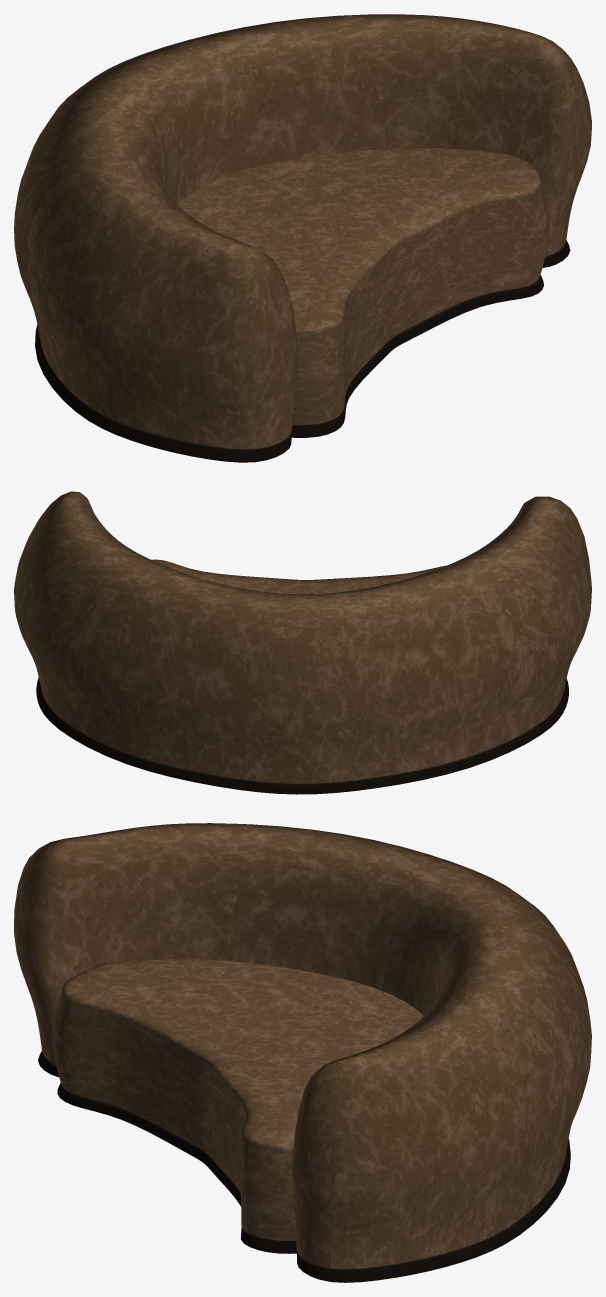
The model's file is SofaPrincipal.obj.
The picture shows the model from 3 angles, top to bottom: view 1: azimuth 30°, elevation 25°; view 2: azimuth 150°, elevation 25°; view 3: azimuth 270°, elevation 25°; orthographic projection. The views are drawn at different scales.
Visible parts, largest first — view 1: Main.004, Main.003, Main.001, Main.002; view 2: Main.004, Main.001, Main.003; view 3: Main.004, Main.003, Main.001, Main.002.
Part boxes in pixels (x1,y1,x2,y2): Main.004: [14, 14, 591, 449]; Main.003: [177, 148, 549, 425]; Main.001: [35, 240, 570, 462]; Main.002: [291, 275, 543, 437]; Main.004: [14, 491, 591, 783]; Main.001: [36, 677, 568, 794]; Main.003: [151, 559, 446, 594]; Main.004: [14, 823, 591, 1269]; Main.003: [52, 959, 423, 1240]; Main.001: [38, 1051, 570, 1282]; Main.002: [57, 1083, 296, 1253].
Bounding box in the file's own units: 3.34 × 1.13 × 2.8.
Materials: 2 (1 with a texture image).
